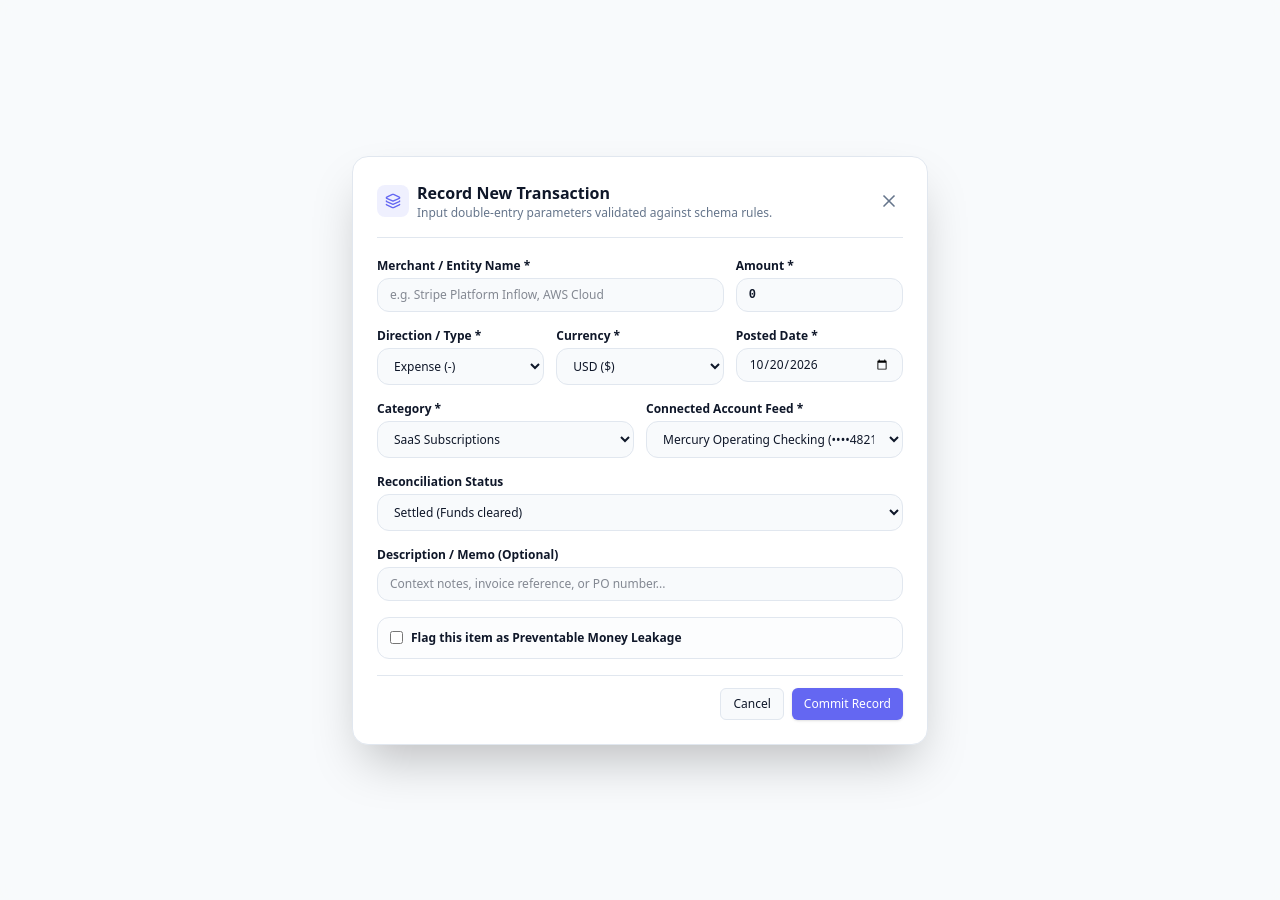
Test: TransactionFormModal Component › validates merchant name and required fields on empty submit
Click the button "Commit Record".
click(847, 704)  # box [792,688,903,720]
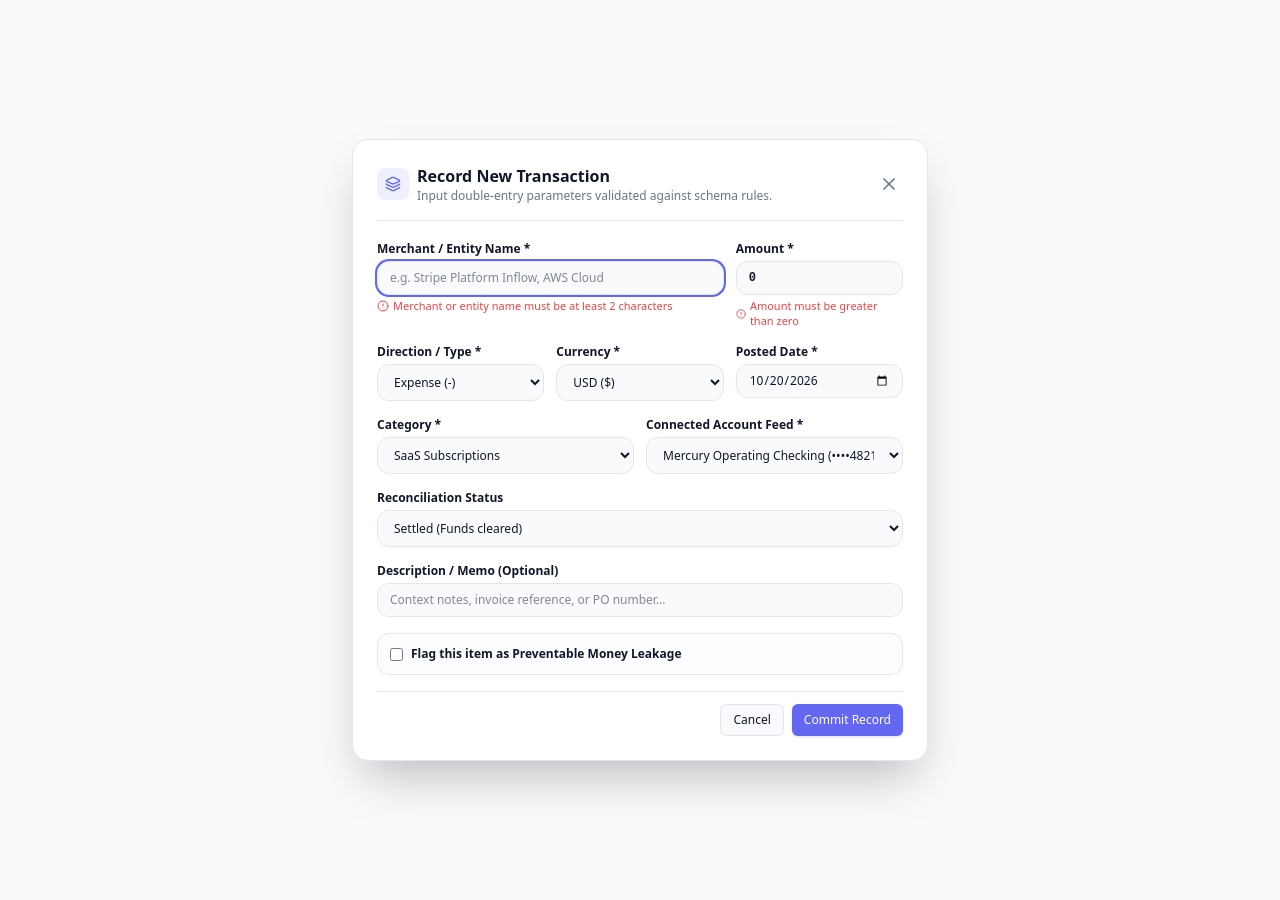
Result: the text "Merchant or entity name must be at least 2 characters" is shown at [377,299,724,314]
